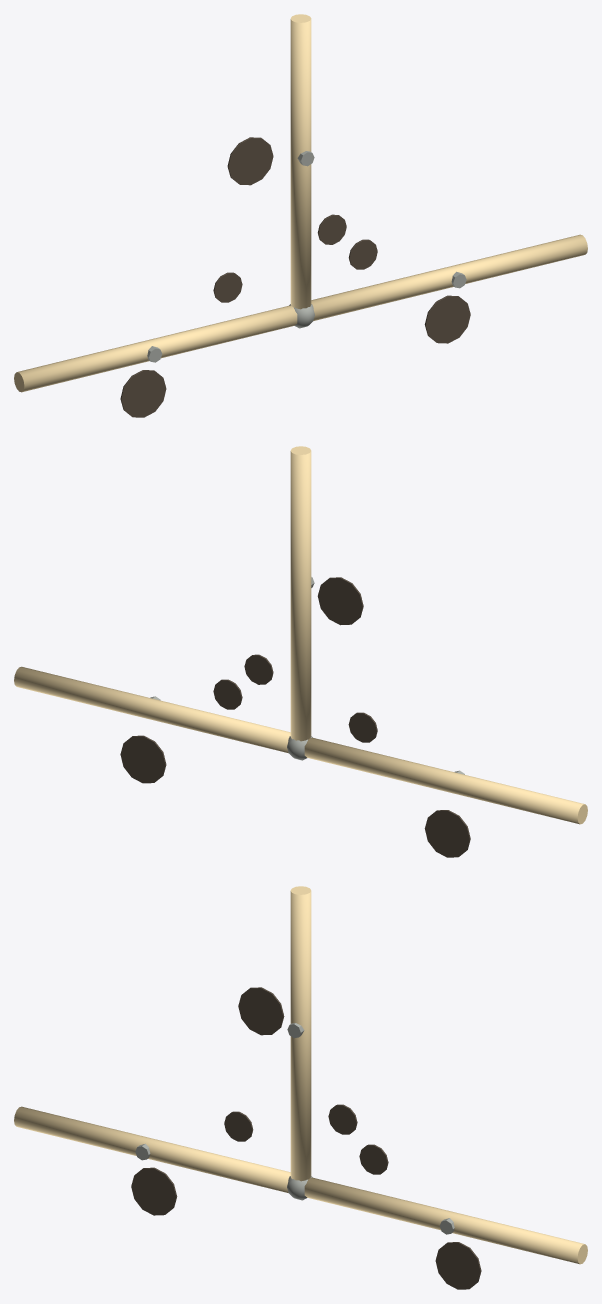
The model's file is drip_m14.obj.
3 renders of one model, top to bottom at view 1: azimuth 30°, elevation 25°; view 2: azimuth 150°, elevation 25°; view 3: azimuth 330°, elevation 25°, orthographic.
Visible parts, largest first — view 1: hose4, hose8, hose2, wet2_0, wet4_0, wet8_0, wet8_1, wet2_1, wet4_1; view 2: hose4, hose8, hose2, wet4_0, wet2_0, wet8_0, wet2_1, wet4_1, wet8_1; view 3: hose4, hose2, hose8, wet8_0, wet4_0, wet2_0, wet2_1, wet4_1, wet8_1.
Boxes of the visible parts, x1,y1,x2,y2 form: hose4: (290,14,311,309); hose8: (14,305,297,392); hose2: (311,234,587,320); wet2_0: (424,295,470,343); wet4_0: (227,137,273,185); wet8_0: (120,370,166,417); wet8_1: (213,272,242,302); wet2_1: (348,239,377,269); wet4_1: (317,214,346,244); hose4: (290,446,311,741); hose8: (304,737,587,824); hose2: (14,666,290,753); wet4_0: (317,577,363,625); wet2_0: (120,735,166,783); wet8_0: (424,810,470,857); wet2_1: (213,679,242,709); wet4_1: (244,654,273,684); wet8_1: (348,712,377,742); hose4: (290,886,311,1181); hose2: (304,1177,587,1264); hose8: (14,1106,290,1192); wet8_0: (131,1167,177,1215); wet4_0: (238,987,284,1035); wet2_0: (435,1242,481,1289); wet2_1: (359,1144,388,1174); wet4_1: (328,1104,357,1134); wet8_1: (224,1111,253,1141).
Size of the model in its own units: 1 by 0.62 by 0.0464.
3 materials, 3 textured.
